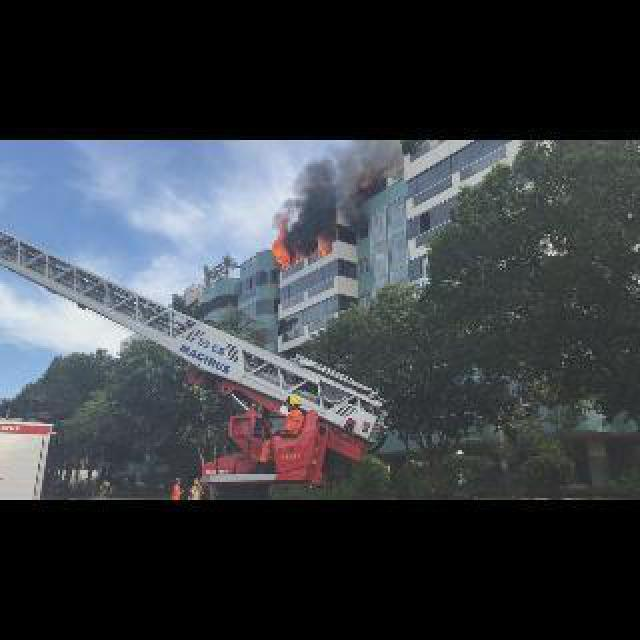fire: (270, 220, 298, 262)
smoke: (280, 160, 343, 264)
